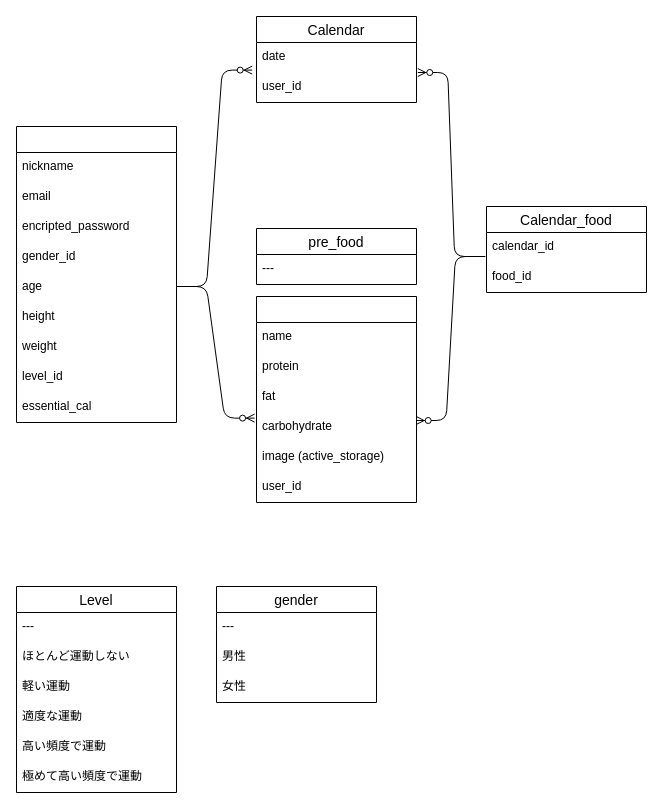
This 663x809 diagram has some shape labels left out. The shapes that lost their labels are listed below. From the top down, each one's box as (x1, y1, x2, y2) in pixels, then its label:
(16, 126, 176, 422): User
(256, 296, 416, 502): Food
